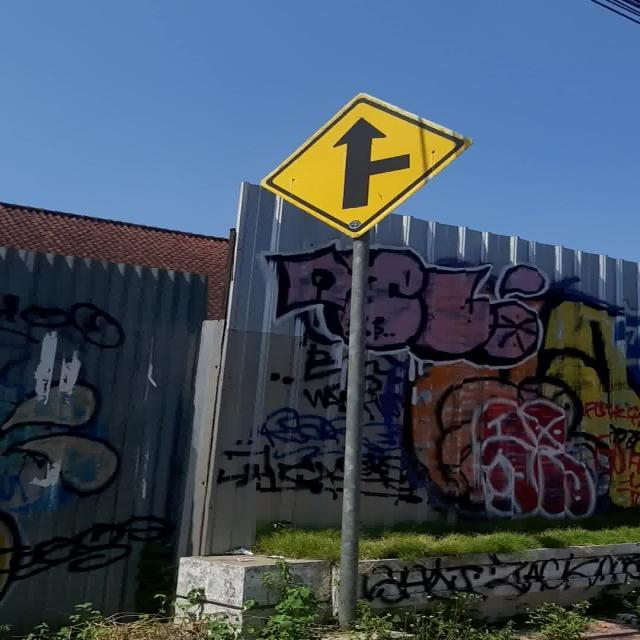Persimpangan 3 Prioritas Kanan: (260, 92, 473, 238)
